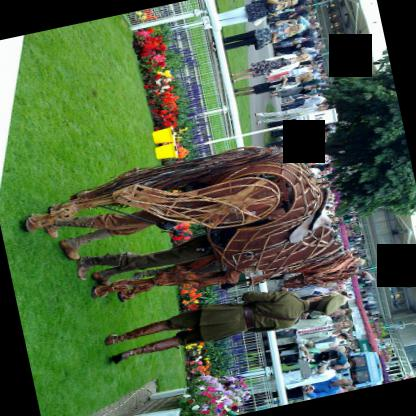handbag: (253, 39, 270, 50), (251, 15, 266, 26), (293, 65, 311, 69)
